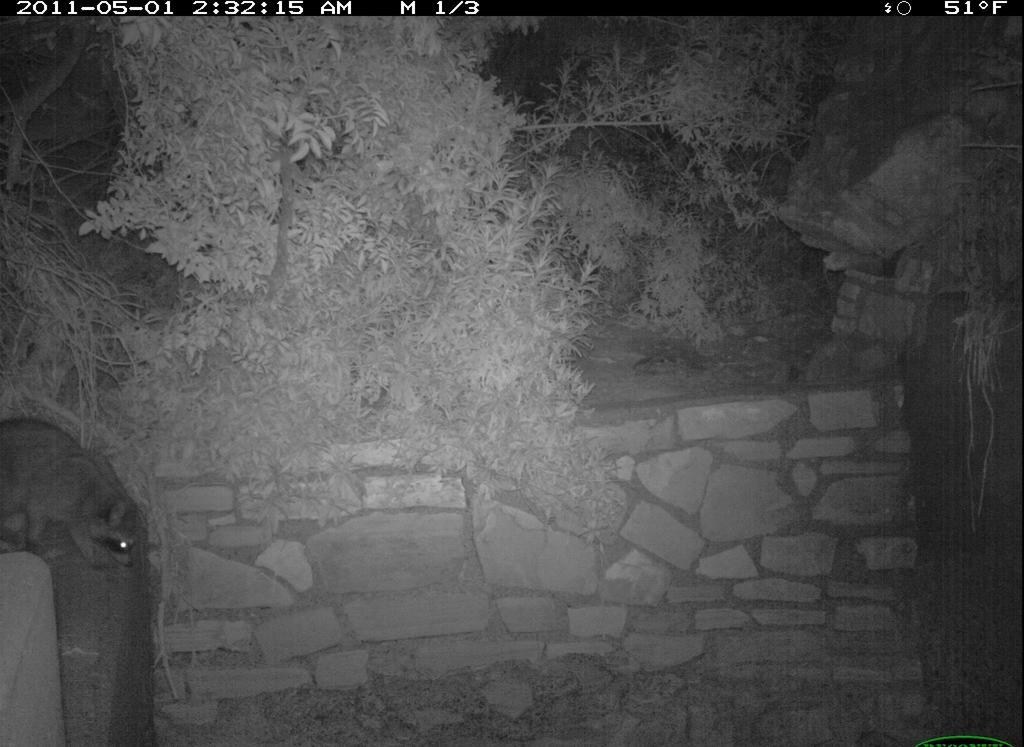raccoon: (1, 383, 143, 597)
